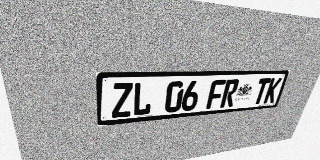0: (164, 81, 185, 113)
6: (181, 80, 201, 112)
F: (206, 80, 226, 109)
K: (263, 78, 282, 104)
L: (132, 82, 153, 116)
R: (220, 79, 240, 108)
T: (252, 78, 271, 105)
Z: (112, 83, 133, 118)
